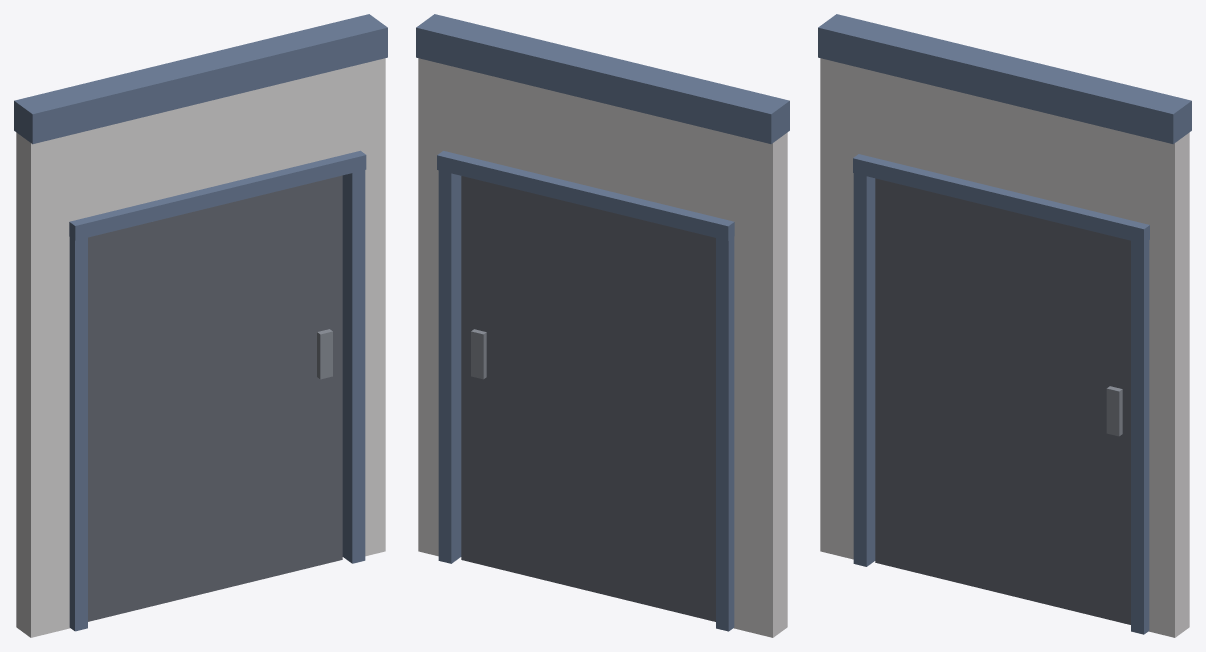
File: 01_wall_door_2.glb
3 views of the same model, side by side, from view 1: azimuth 30°, elevation 25°; view 2: azimuth 150°, elevation 25°; view 3: azimuth 330°, elevation 25° (orthographic).
Parts seen in each view (by area): view 1: Wall_Left, DoorLeaf; view 2: Wall_Left, DoorLeaf; view 3: Wall_Left, DoorLeaf.
Part boxes in pixels (x1=…): Wall_Left: x1=14, y1=14, x2=387, y2=637; DoorLeaf: x1=88, y1=175, x2=342, y2=621; Wall_Left: x1=416, y1=14, x2=789, y2=637; DoorLeaf: x1=461, y1=176, x2=715, y2=621; Wall_Left: x1=818, y1=14, x2=1191, y2=637; DoorLeaf: x1=875, y1=178, x2=1130, y2=624.
Bounding box in the file's own units: 2.11 × 2.99 × 0.276.
